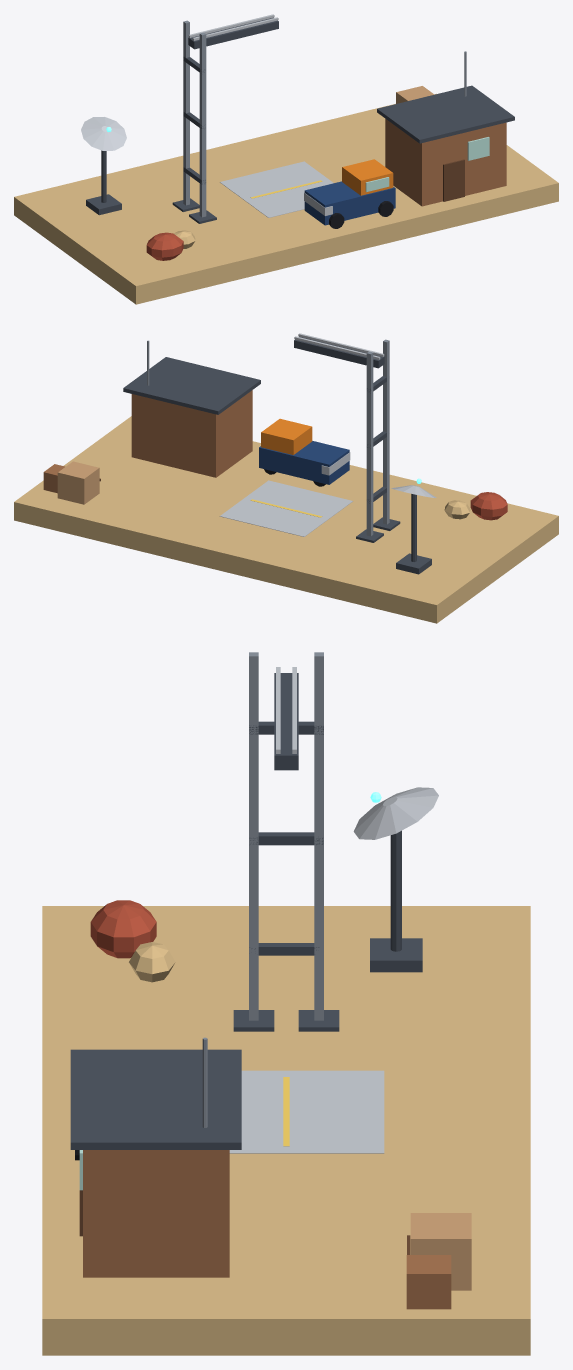
File: site_sounding.glb
The picture shows the model from 3 angles, top to bottom: view 1: azimuth 30°, elevation 25°; view 2: azimuth 150°, elevation 25°; view 3: azimuth 270°, elevation 25°; orthographic projection. The views are drawn at different scales.
Visible parts, largest first — view 1: site_sounding; view 2: site_sounding; view 3: site_sounding.
Boxes of the visible parts, box(x1,y1,x2,y2) form: site_sounding: box(14, 14, 558, 304); site_sounding: box(14, 333, 558, 623); site_sounding: box(42, 652, 530, 1355).
Bounding box in the file's own units: 12 × 5.5 × 6.
